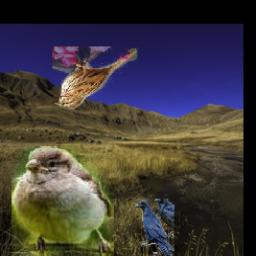Crow: (135, 200, 176, 256)
Sparrow: (11, 147, 114, 256), (52, 46, 138, 110)
